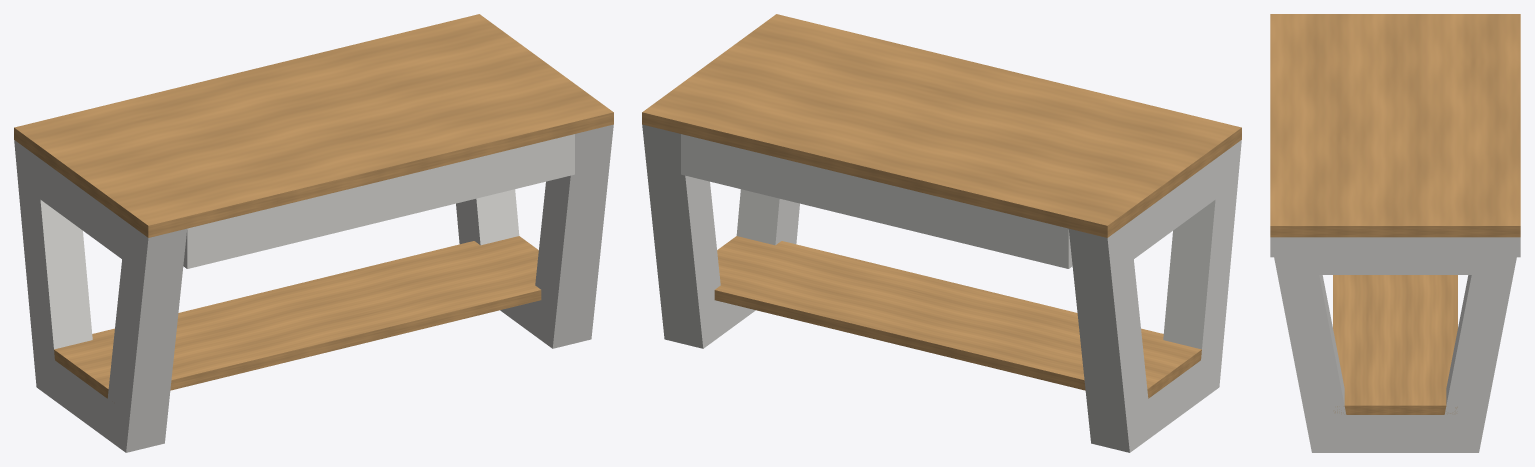
File: mesa-living-nord-estante-miel-blanco-10cm.glb
3 views of the same model, side by side, from view 1: azimuth 30°, elevation 25°; view 2: azimuth 150°, elevation 25°; view 3: azimuth 270°, elevation 25° (orthographic). The views are drawn at different scales.
Visible parts, largest first — view 1: Tapa de madera maciza 120 x 60 x 3 cm, Patas inclinadas con cortes a inglete, Estante inferior de madera de 120 cm (proporción aproximada), Larguero longitudinal superior de hierro 10 x 10 mm, Travesaño superior del trapecio, perfil 10 cm, Travesaño inferior del trapecio, perfil 10 cm; view 2: Tapa de madera maciza 120 x 60 x 3 cm, Patas inclinadas con cortes a inglete, Estante inferior de madera de 120 cm (proporción aproximada), Larguero longitudinal superior de hierro 10 x 10 mm, Travesaño superior del trapecio, perfil 10 cm, Travesaño inferior del trapecio, perfil 10 cm (×2); view 3: Tapa de madera maciza 120 x 60 x 3 cm, Patas inclinadas con cortes a inglete, Estante inferior de madera de 120 cm (proporción aproximada), Travesaño superior del trapecio, perfil 10 cm, Travesaño inferior del trapecio, perfil 10 cm.
Part boxes in pixels (box(x1,y1,x2,y2)): Tapa de madera maciza 120 x 60 x 3 cm: box(14, 14, 613, 237); Patas inclinadas con cortes a inglete: box(14, 124, 613, 452); Estante inferior de madera de 120 cm (proporción aproximada): box(54, 236, 541, 398); Larguero longitudinal superior de hierro 10 x 10 mm: box(183, 134, 574, 268); Travesaño superior del trapecio, perfil 10 cm: box(36, 156, 137, 269); Travesaño inferior del trapecio, perfil 10 cm: box(55, 360, 114, 438); Tapa de madera maciza 120 x 60 x 3 cm: box(642, 14, 1241, 237); Patas inclinadas con cortes a inglete: box(642, 124, 1241, 452); Estante inferior de madera de 120 cm (proporción aproximada): box(714, 236, 1201, 398); Larguero longitudinal superior de hierro 10 x 10 mm: box(681, 134, 1072, 268); Travesaño superior del trapecio, perfil 10 cm: box(1118, 149, 1230, 268); Travesaño inferior del trapecio, perfil 10 cm (×2): box(715, 300, 1200, 436); Tapa de madera maciza 120 x 60 x 3 cm: box(1270, 14, 1520, 237); Patas inclinadas con cortes a inglete: box(1270, 237, 1520, 452); Estante inferior de madera de 120 cm (proporción aproximada): box(1333, 275, 1457, 414); Travesaño superior del trapecio, perfil 10 cm: box(1291, 237, 1499, 274); Travesaño inferior del trapecio, perfil 10 cm: box(1333, 415, 1457, 452).
Size of the model in its own units: 1.2 by 0.6 by 0.6.
Materials: 2 (1 with a texture image).
